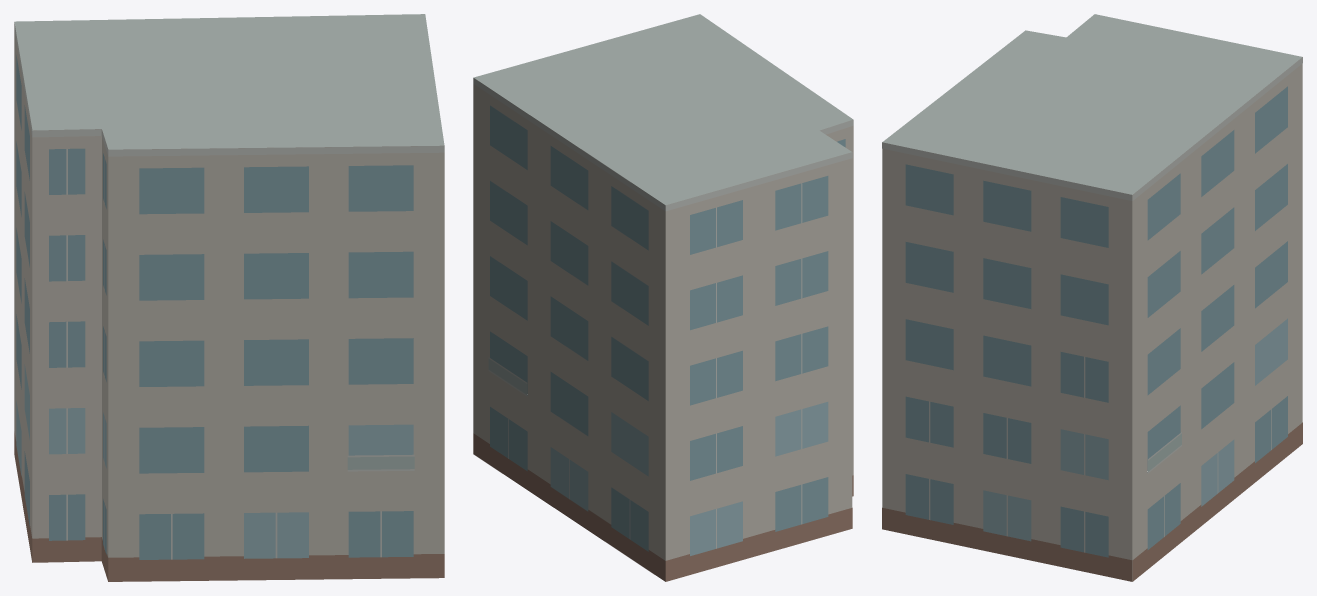
File: survey-upis-32980224.glb
3 views of the same model, side by side, from view 1: azimuth 30°, elevation 25°; view 2: azimuth 150°, elevation 25°; view 3: azimuth 270°, elevation 25° (orthographic). The views are drawn at different scales.
Parts seen in each view (by area): view 1: survey-upis-32980224.tmp; view 2: survey-upis-32980224.tmp; view 3: survey-upis-32980224.tmp.
Boxes of the visible parts, left/top/right/bottom form: survey-upis-32980224.tmp: left=14, top=14, right=444, bottom=581; survey-upis-32980224.tmp: left=473, top=14, right=853, bottom=581; survey-upis-32980224.tmp: left=882, top=14, right=1302, bottom=581.
Size of the model in its own units: 15.04 by 15 by 14.78.
